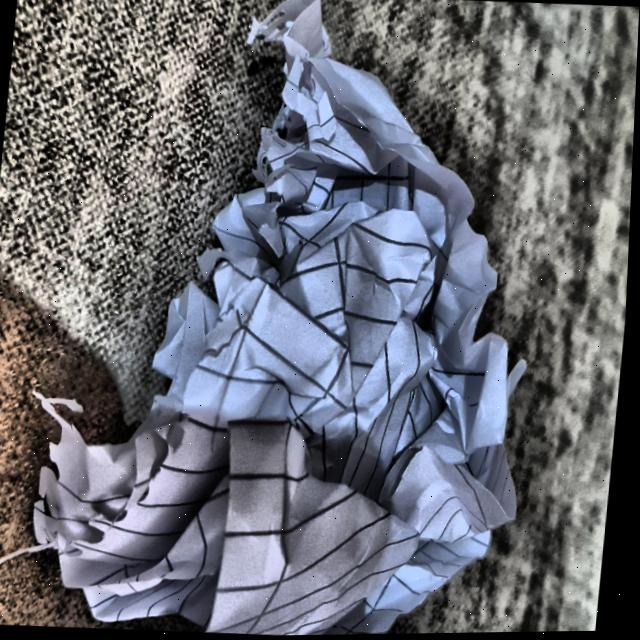paper: (34, 0, 568, 639)
